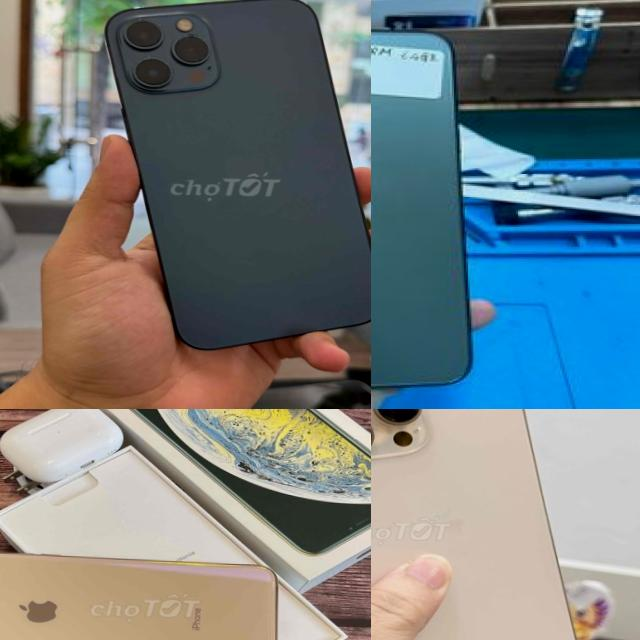gen_11: (371, 8, 492, 409)
gen_12_13: (94, 0, 371, 353)
gen_16: (371, 409, 576, 640)
gen_x_xs: (0, 538, 299, 640)
